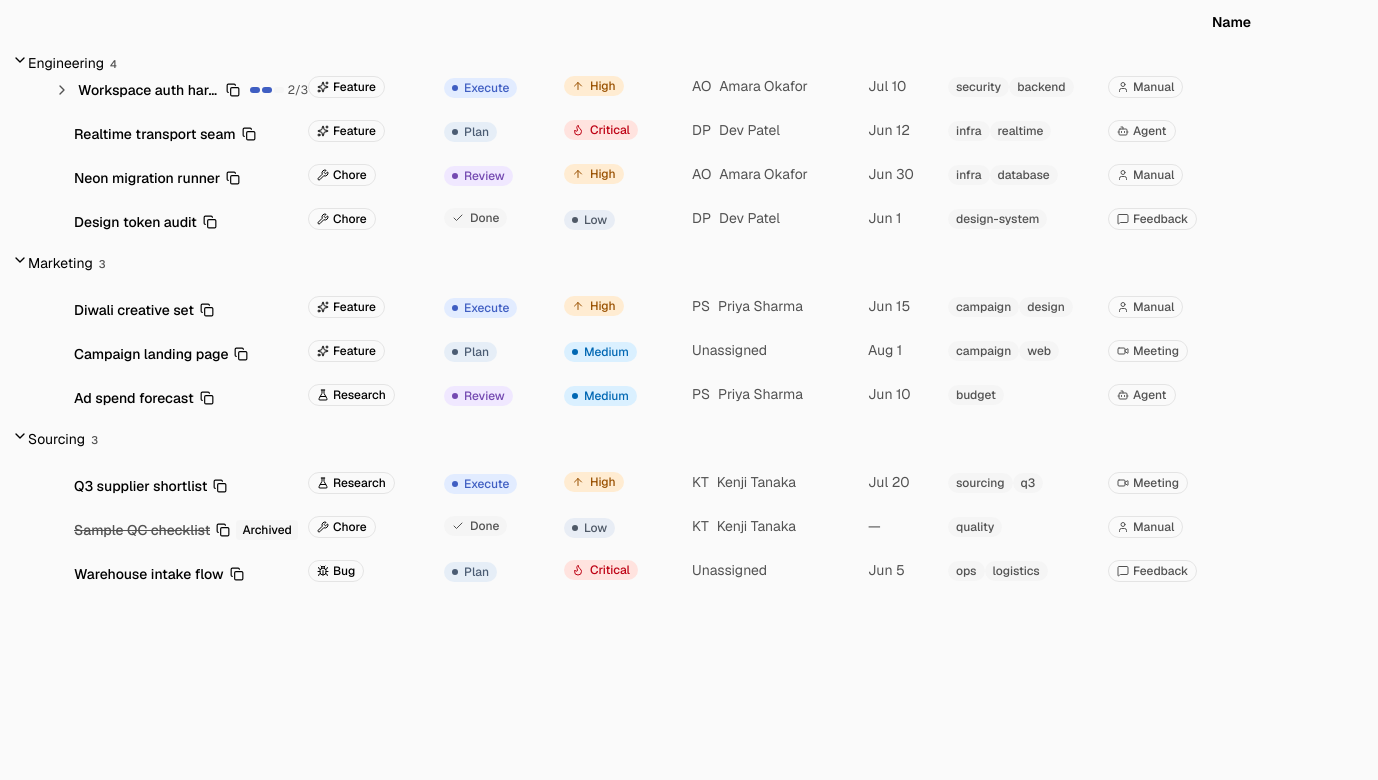
Test: WorkboardTable › collapses a group to hide its item rows and restores them on expand
Expected: the button "Workspace auth hardening" is shown, [78, 80, 220, 100]
Collapse Engineering (4 items: wi_auth/realtime/migration/tabletoken).
Click the button named "Collapse Engineering" at (20, 60), box [12, 52, 28, 68]
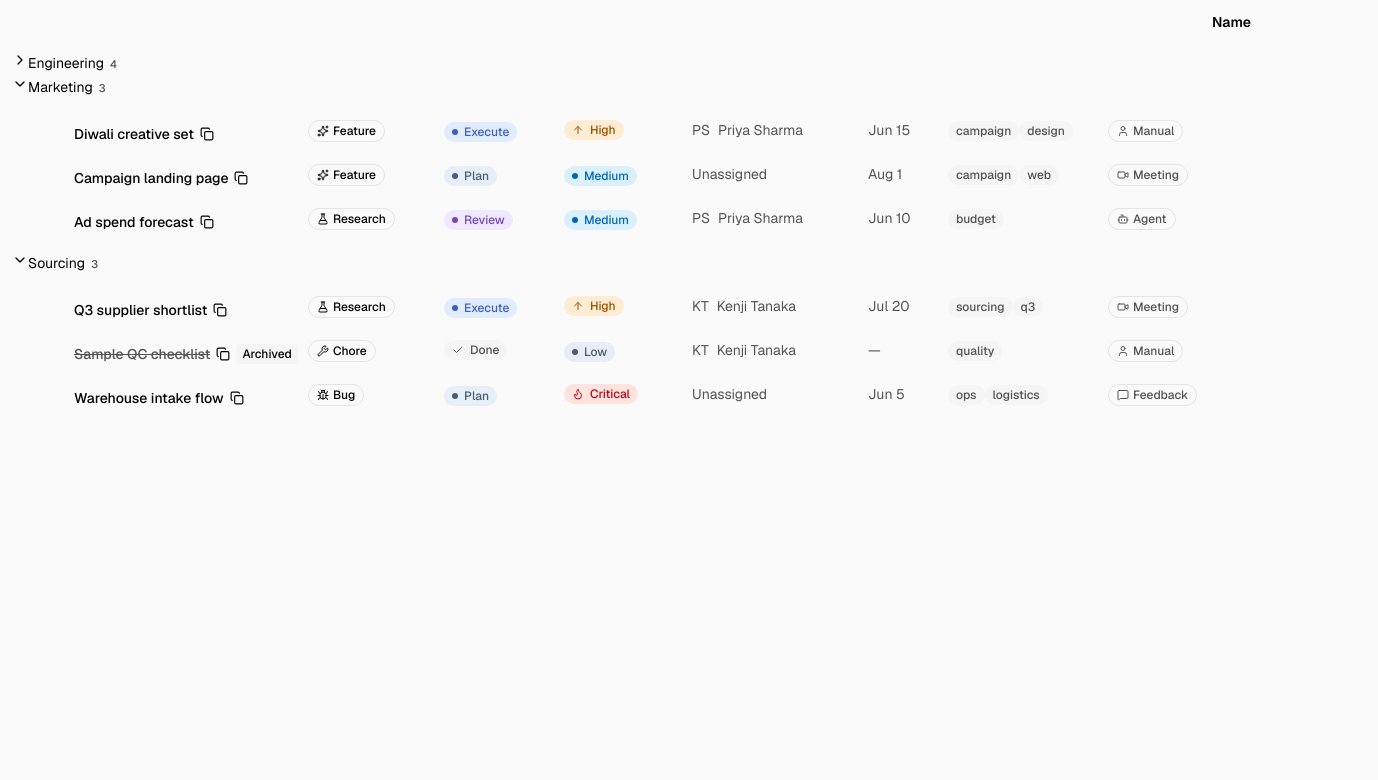
Expected: the row with test id "swimlane-group" showing "Engineering4" is shown, [12, 52, 1212, 73]
Now the button "Workspace auth hardening" is gone
Now the button named "Expand Engineering" is collapsed
Expanding restores the hidden rows and the original count.
Click the button named "Expand Engineering" at (20, 60), box [12, 52, 28, 68]
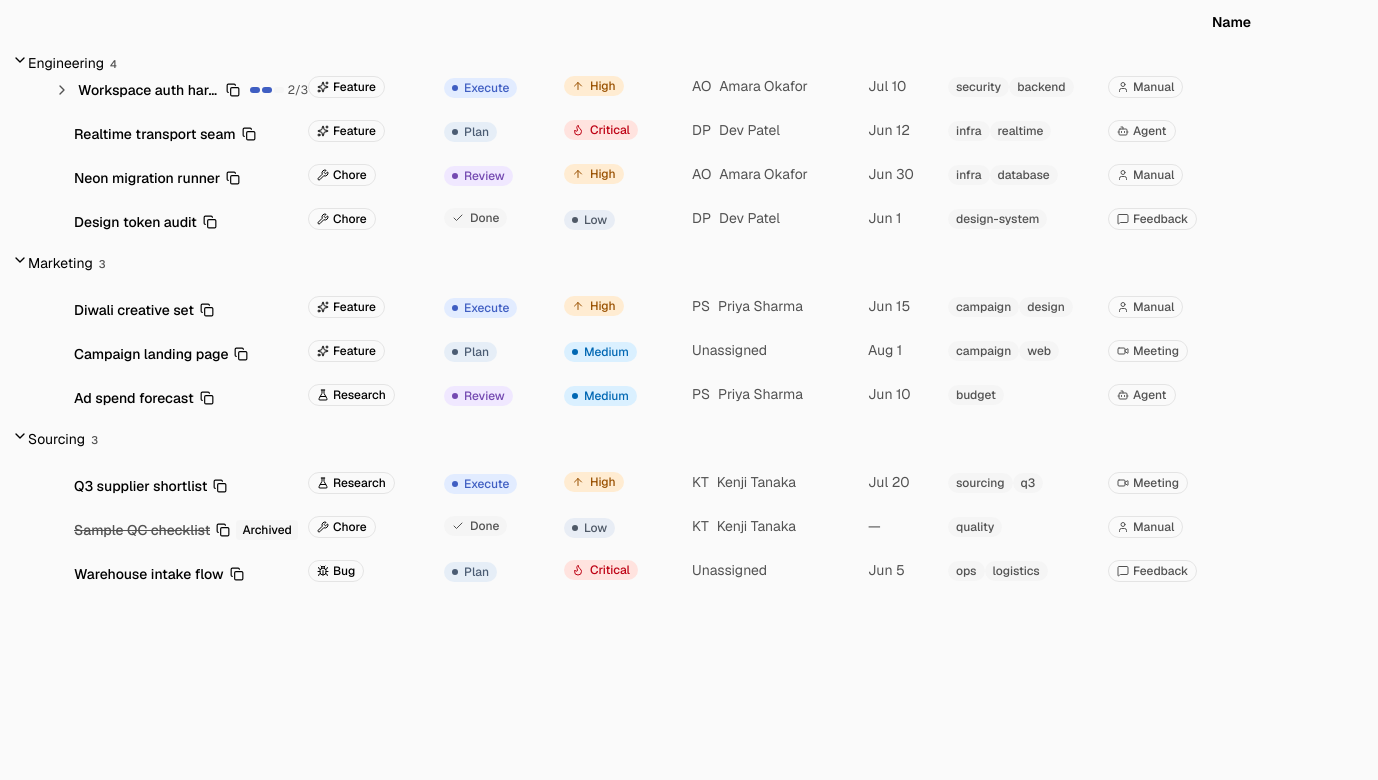
Now the button "Workspace auth hardening" is shown, box [78, 80, 220, 100]
